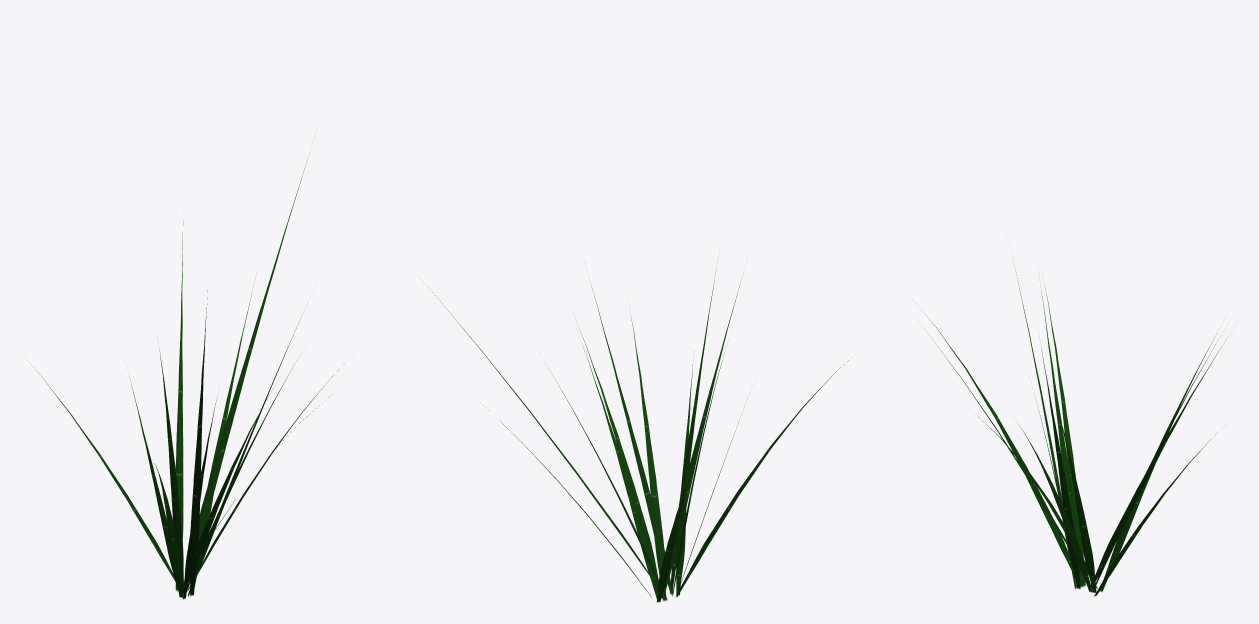
Rendered from Wetland_Cattail_0.glb.
3 renders of one model, left to right at view 1: azimuth 30°, elevation 25°; view 2: azimuth 150°, elevation 25°; view 3: azimuth 270°, elevation 25°, orthographic. The views are drawn at different scales.
Parts seen in each view (by area): view 1: Wetland_Cattail_0; view 2: Wetland_Cattail_0; view 3: Wetland_Cattail_0.
Part boxes in pixels (x1,y1,x2,y2): Wetland_Cattail_0: [33, 159, 338, 599]; Wetland_Cattail_0: [420, 269, 848, 602]; Wetland_Cattail_0: [925, 268, 1227, 596].
Bounding box in the file's own units: 1.34 × 2.23 × 1.16.
Materials: 1 (1 with a texture image).
